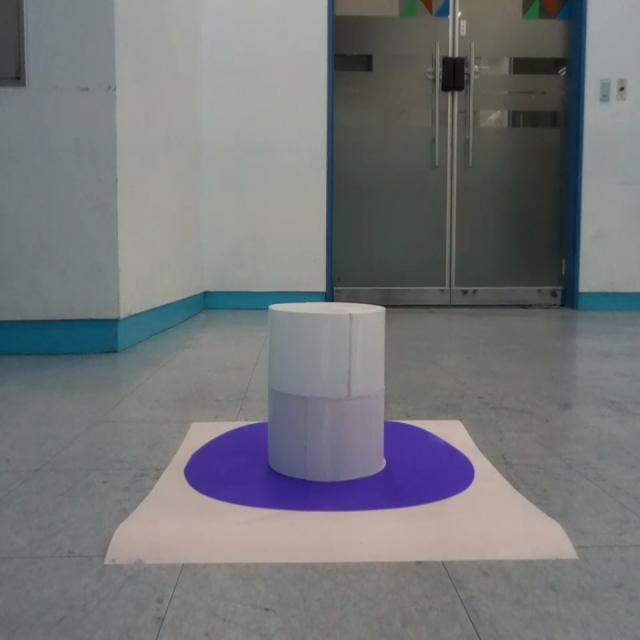cylinder: (268, 300, 386, 483)
